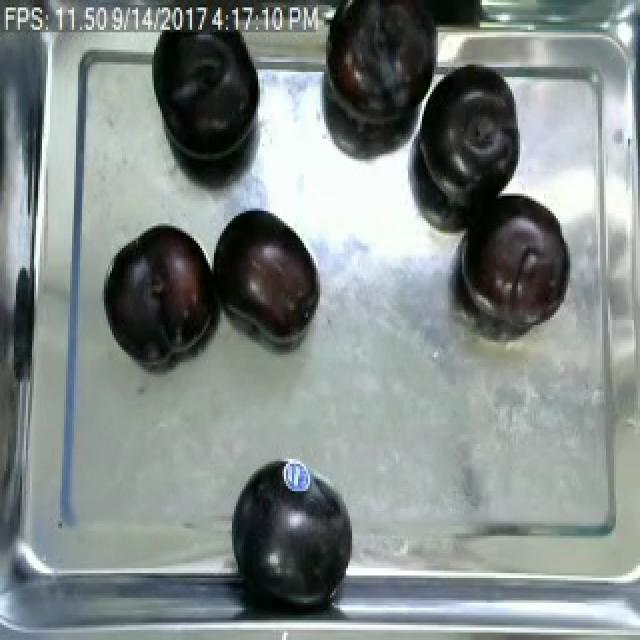Fruit: (220, 454, 368, 623), (146, 22, 266, 174), (96, 218, 220, 365), (212, 198, 328, 348), (452, 196, 576, 335), (412, 69, 526, 211), (320, 0, 440, 131)
